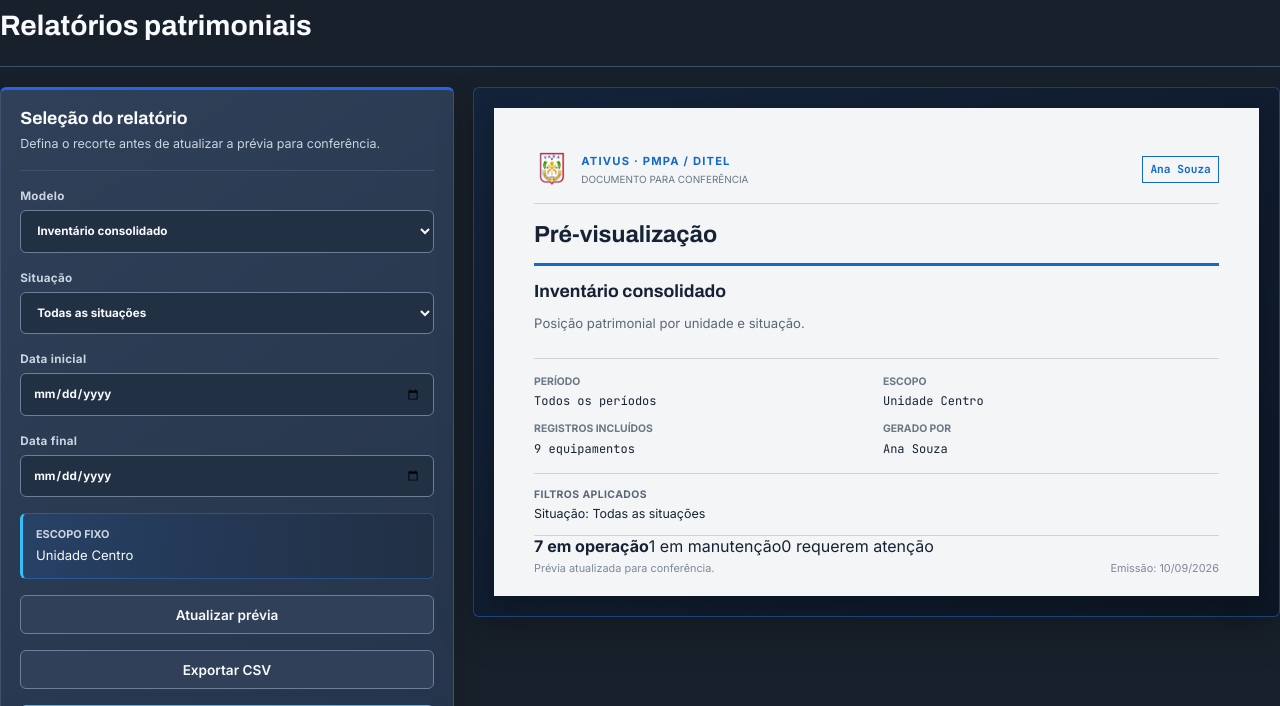
Test: renders the movements summary report with pending and approved counters
Select "Movimentações por período" in the dropdown named "Modelo de relatório": (227, 231) x1=20 y1=210 x2=434 y2=253
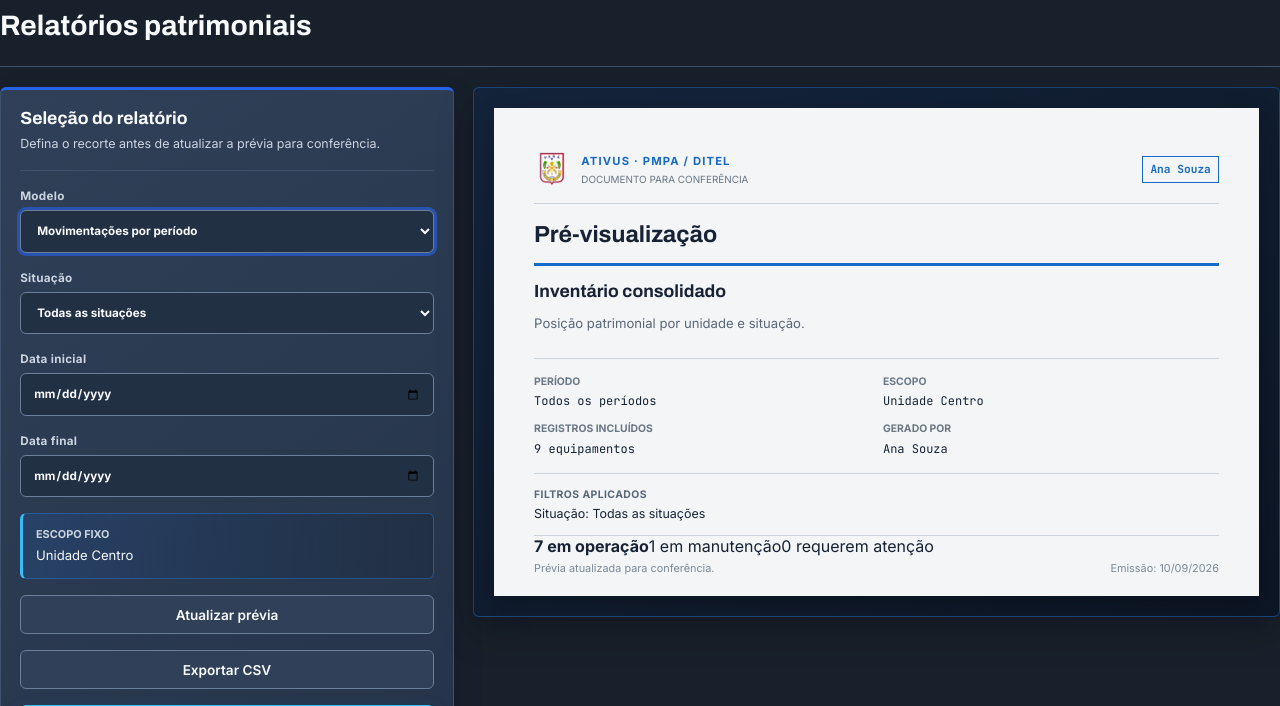
Click the button "Atualizar prévia": (227, 615) x1=20 y1=595 x2=434 y2=634
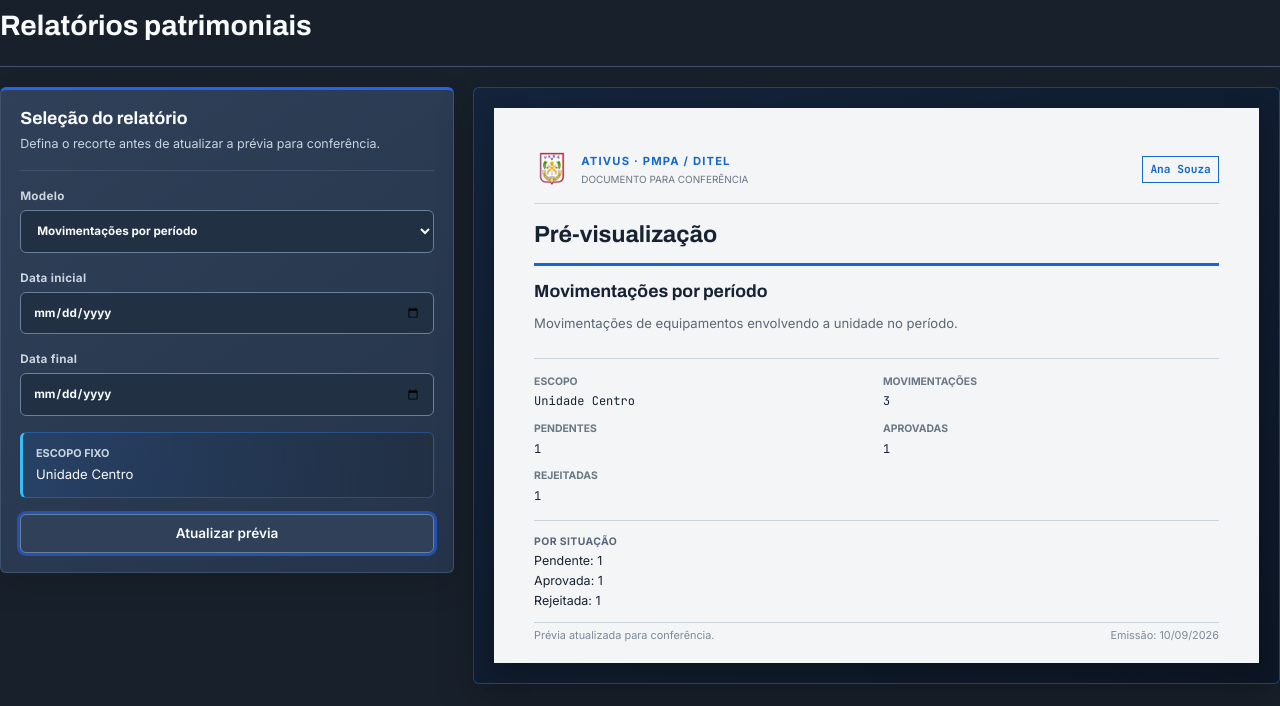
expect the heading "Movimentações por período" is shown: met, box x1=534 y1=263 x2=1219 y2=301
expect the text "3" is shown: met, box x1=883 y1=393 x2=890 y2=409
expect the text "Pendente: 1" is shown: met, box x1=534 y1=553 x2=602 y2=568
